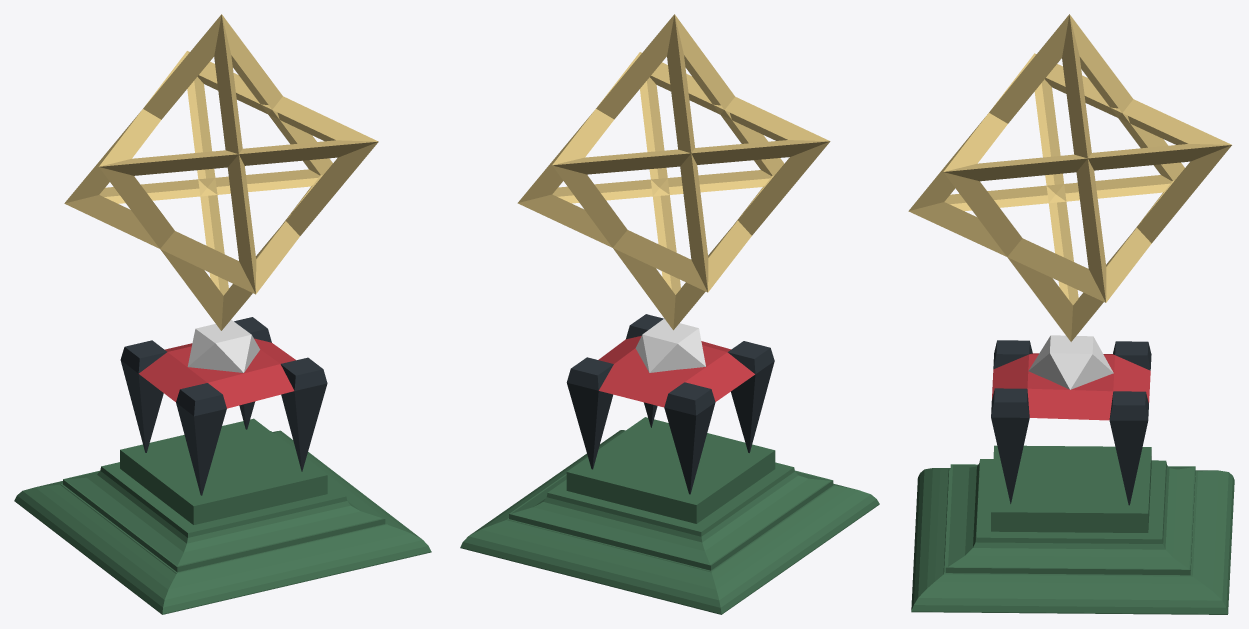
Rendered from EstrellaOctagula_Jamnitzer2.glb.
3 views of the same model, side by side, from view 1: azimuth 30°, elevation 25°; view 2: azimuth 150°, elevation 25°; view 3: azimuth 270°, elevation 25° (orthographic). The views are drawn at different scales.
Visible parts, largest first — view 1: Cube.010, Cube.013, Cube.011, Cube.014, Cube.012; view 2: Cube.010, Cube.013, Cube.011, Cube.014, Cube.012; view 3: Cube.010, Cube.013, Cube.011, Cube.014, Cube.012.
Part boxes in pixels (<box>): Cube.010: <box>14,418,431,614</box>; Cube.013: <box>64,14,378,330</box>; Cube.011: <box>120,317,327,495</box>; Cube.014: <box>139,338,295,408</box>; Cube.012: <box>187,320,260,372</box>; Cube.010: <box>460,417,879,614</box>; Cube.013: <box>517,14,830,330</box>; Cube.011: <box>566,314,774,494</box>; Cube.014: <box>598,336,754,407</box>; Cube.012: <box>635,319,705,372</box>; Cube.010: <box>911,445,1234,614</box>; Cube.013: <box>908,14,1231,341</box>; Cube.011: <box>991,340,1151,505</box>; Cube.014: <box>992,353,1150,420</box>; Cube.012: <box>1028,335,1113,389</box>.
Bounding box in the file's own units: 1.35 × 2.38 × 1.32.
